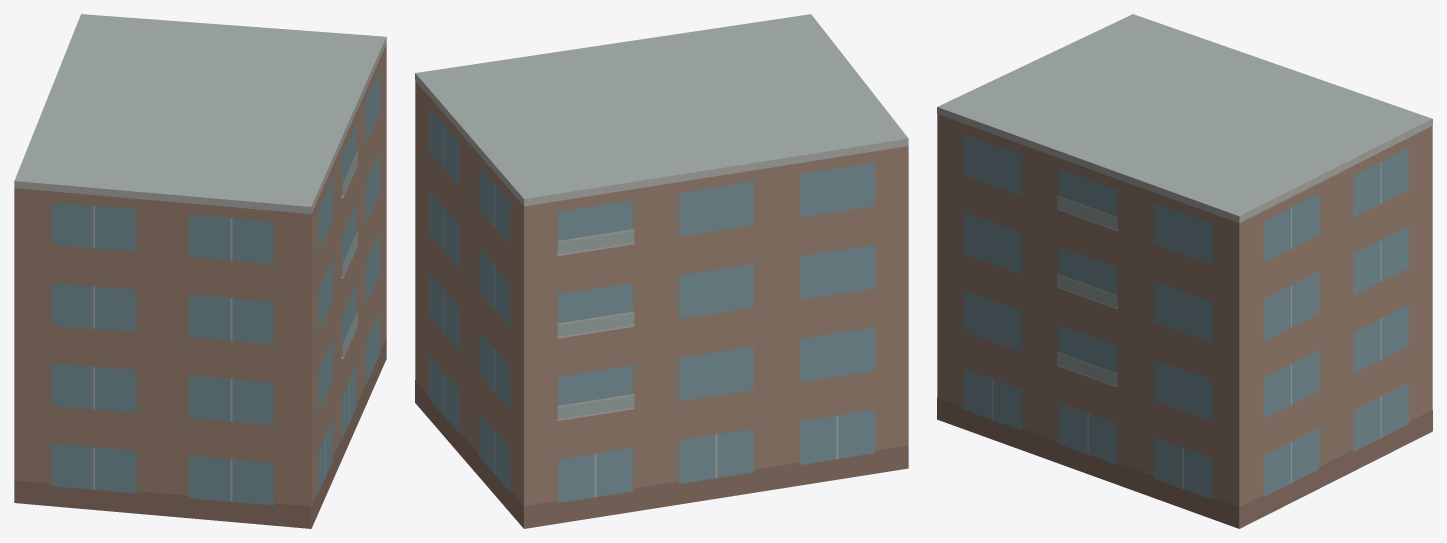
Rendered from survey-upis-32666074.glb.
3 views of the same model, side by side, from view 1: azimuth 30°, elevation 25°; view 2: azimuth 150°, elevation 25°; view 3: azimuth 270°, elevation 25° (orthographic). The views are drawn at different scales.
Parts seen in each view (by area): view 1: survey-upis-32666074.tmp; view 2: survey-upis-32666074.tmp; view 3: survey-upis-32666074.tmp.
Part boxes in pixels (left/top/right/bottom): survey-upis-32666074.tmp: left=14, top=14, right=386, bottom=528; survey-upis-32666074.tmp: left=415, top=14, right=908, bottom=528; survey-upis-32666074.tmp: left=937, top=14, right=1432, bottom=528.
Bounding box in the file's own units: 15.28 × 11 × 15.82.
